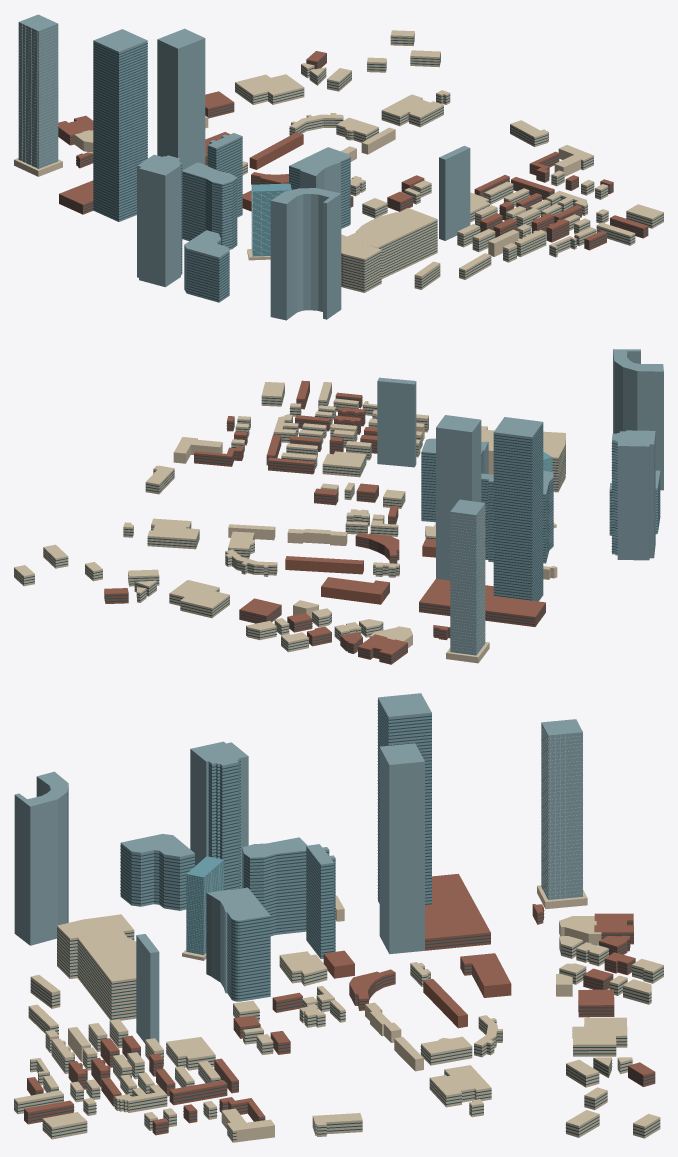
3 renders of one model, top to bottom at view 1: azimuth 30°, elevation 25°; view 2: azimuth 150°, elevation 25°; view 3: azimuth 270°, elevation 25°, orthographic. The views are drawn at different scales.
Visible parts, largest first — view 1: osm-way-499430063, osm-relation-5496035.001, construction-bank.001, osm-way-499430061, osm-relation-12981304.001, osm-relation-12871465.003, osm-way-166126955, osm-way-957019640, osm-relation-12894549.001, osm-relation-12894549, china-shipbuilding.001, osm-relation-12871465.002 (+28 smaller); view 2: osm-way-499430063, construction-bank.001, osm-way-499430061, osm-relation-12981304.001, osm-relation-5496035.001, osm-way-957019640, osm-way-958766046, osm-way-958766131, osm-relation-12894550, osm-way-958766073, osm-way-959022793, osm-relation-12894552 (+21 smaller); view 3: osm-way-499430061, osm-relation-5496035.001, construction-bank.001, osm-way-166126955, osm-relation-12894550, osm-way-499430063, osm-relation-12981304, osm-relation-12871465.003, osm-way-958766046, osm-relation-12981304.001, osm-way-369819131, osm-relation-12894549 (+31 smaller).
Part boxes in pixels (bbox=[...]): osm-way-499430063: bbox=[93, 29, 147, 221]; osm-relation-5496035.001: bbox=[270, 188, 341, 320]; construction-bank.001: bbox=[14, 14, 62, 176]; osm-way-499430061: bbox=[157, 28, 205, 170]; osm-relation-12981304.001: bbox=[137, 154, 180, 287]; osm-relation-12871465.003: bbox=[354, 210, 437, 278]; osm-way-166126955: bbox=[184, 230, 229, 302]; osm-way-957019640: bbox=[439, 145, 470, 240]; osm-relation-12894549.001: bbox=[205, 171, 237, 249]; osm-relation-12894549: bbox=[182, 162, 219, 241]; china-shipbuilding.001: bbox=[247, 183, 291, 260]; osm-relation-12871465.002: bbox=[343, 242, 381, 292]; osm-way-499430063: bbox=[493, 417, 543, 601]; construction-bank.001: bbox=[446, 499, 489, 663]; osm-way-499430061: bbox=[436, 415, 481, 580]; osm-relation-12981304.001: bbox=[617, 430, 655, 560]; osm-relation-5496035.001: bbox=[613, 349, 663, 490]; osm-way-957019640: bbox=[377, 377, 416, 467]; osm-way-958766046: bbox=[419, 578, 545, 626]; osm-way-958766131: bbox=[147, 518, 199, 549]; osm-relation-12894550: bbox=[421, 438, 482, 522]; osm-way-958766073: bbox=[285, 556, 363, 574]; osm-way-959022793: bbox=[180, 587, 229, 618]; osm-relation-12894552: bbox=[321, 577, 383, 604]; osm-way-499430061: bbox=[379, 743, 424, 954]; osm-relation-5496035.001: bbox=[14, 771, 68, 945]; construction-bank.001: bbox=[537, 719, 587, 909]; osm-way-166126955: bbox=[120, 834, 195, 910]; osm-relation-12894550: bbox=[227, 887, 270, 1001]; osm-way-499430063: bbox=[377, 693, 431, 904]; osm-relation-12981304: bbox=[204, 749, 240, 890]; osm-relation-12871465.003: bbox=[77, 933, 136, 1020]; osm-way-958766046: bbox=[425, 873, 490, 950]; osm-relation-12981304.001: bbox=[190, 741, 248, 888]; osm-way-369819131: bbox=[306, 844, 335, 958]; osm-relation-12894549: bbox=[267, 837, 307, 934].
Size of the model in its own units: 722 by 256 by 741.
